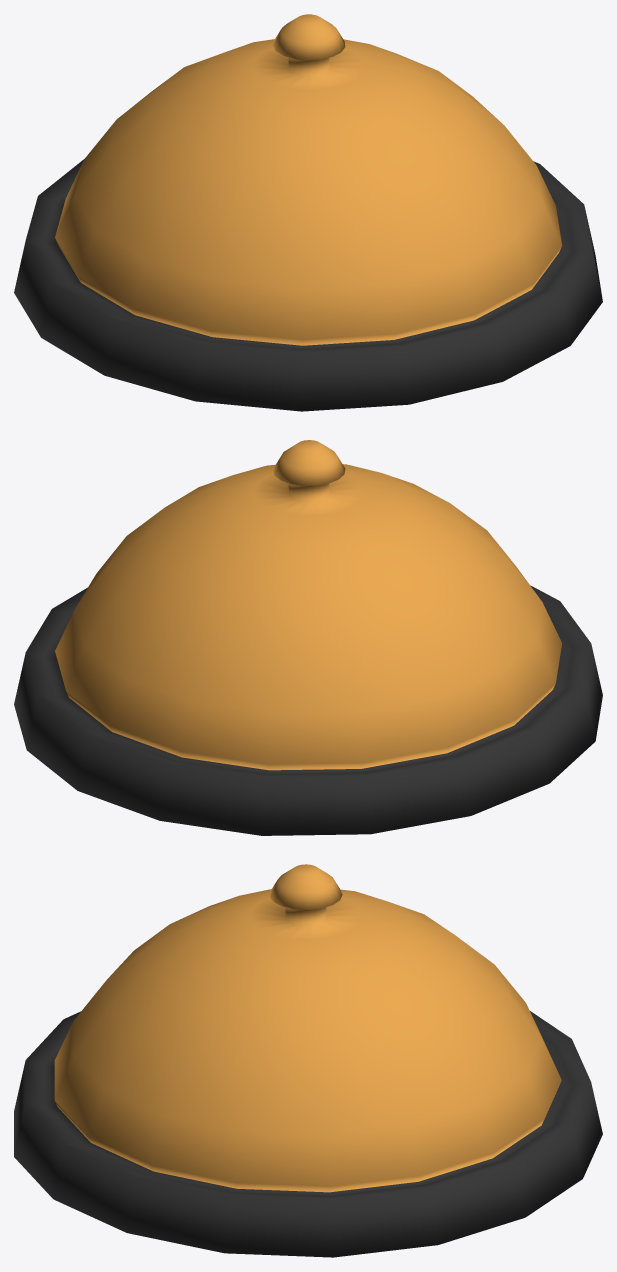
The model's file is Bell.fbx.
3 renders of one model, top to bottom at view 1: azimuth 30°, elevation 25°; view 2: azimuth 150°, elevation 25°; view 3: azimuth 270°, elevation 25°, orthographic.
Visible parts, largest first — view 1: Sphere.001; view 2: Sphere.001; view 3: Sphere.001.
Part boxes in pixels (<box>): Sphere.001: <box>14,14,602,411</box>; Sphere.001: <box>14,440,602,835</box>; Sphere.001: <box>14,864,602,1257</box>.
Size of the model in its own units: 20.22 by 10.31 by 20.4.
